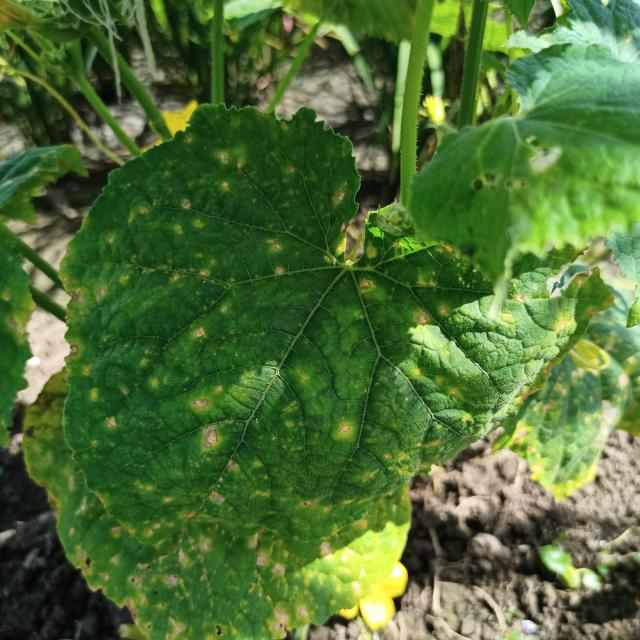disease_cucumber: (54, 123, 436, 640)
